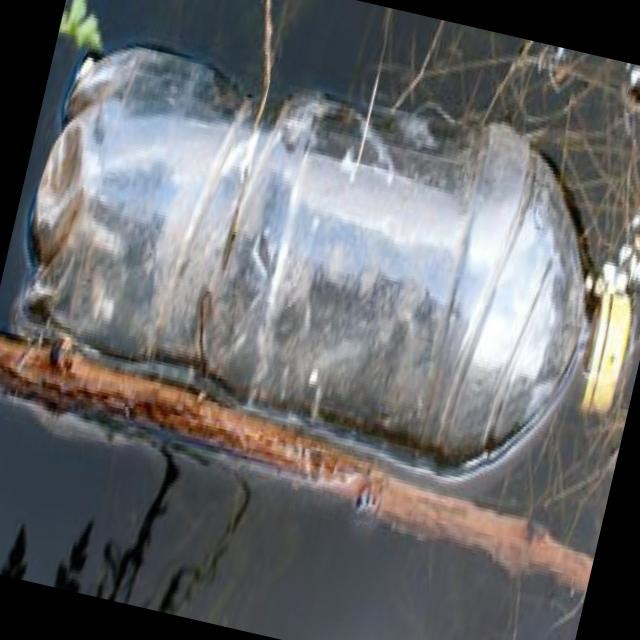general: (0, 19, 629, 507), (570, 278, 640, 418)
